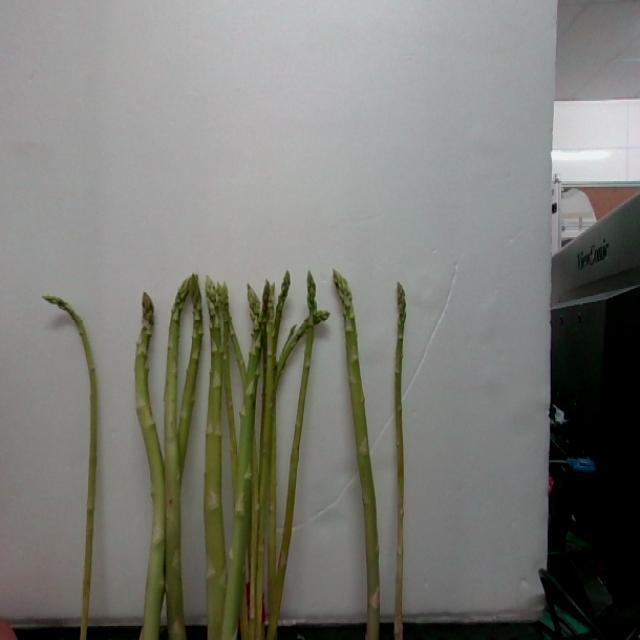aspargus: (331, 272, 384, 640), (46, 297, 96, 640), (131, 294, 169, 640), (394, 288, 410, 637)
